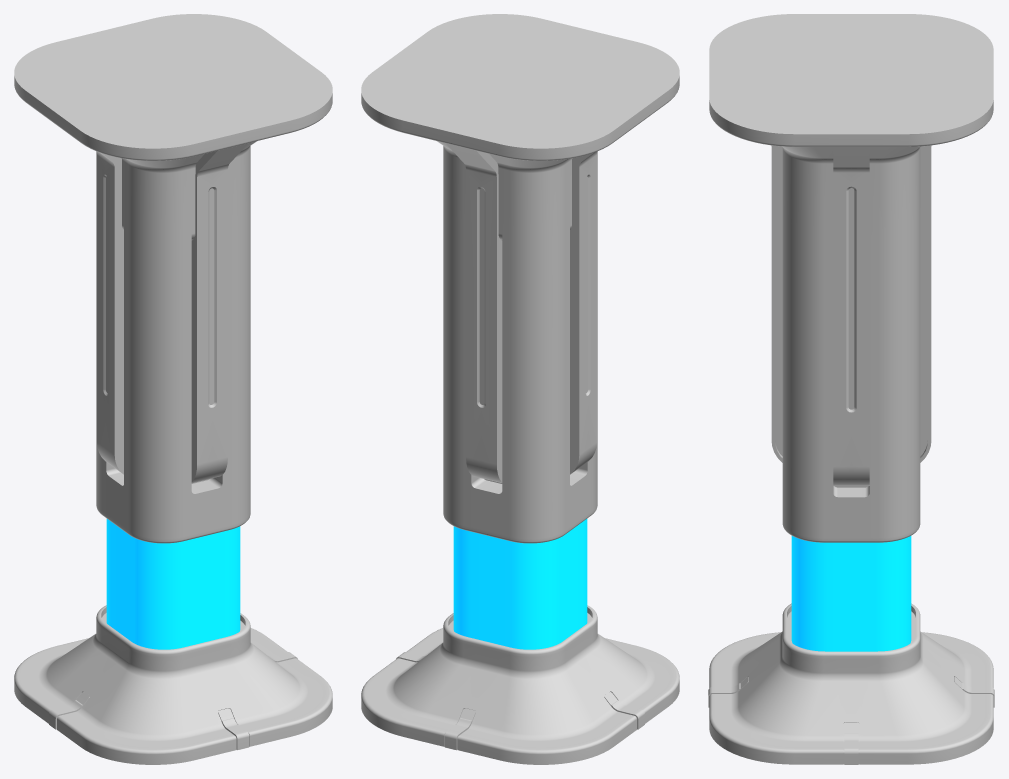
Rendered from SM_MOD_Laser_Column_02.fbx.
3 views of the same model, side by side, from view 1: azimuth 30°, elevation 25°; view 2: azimuth 150°, elevation 25°; view 3: azimuth 270°, elevation 25° (orthographic). The views are drawn at different scales.
Visible parts, largest first — view 1: SM_MOD_Laser_Column_02_LOD0; view 2: SM_MOD_Laser_Column_02_LOD0; view 3: SM_MOD_Laser_Column_02_LOD0.
Part boxes in pixels (x1,y1,x2,y2): SM_MOD_Laser_Column_02_LOD0: (14,14,332,764); SM_MOD_Laser_Column_02_LOD0: (361,14,679,764); SM_MOD_Laser_Column_02_LOD0: (708,14,994,764).
Size of what is drawn, in the model's own units: 316 by 768 by 316.
